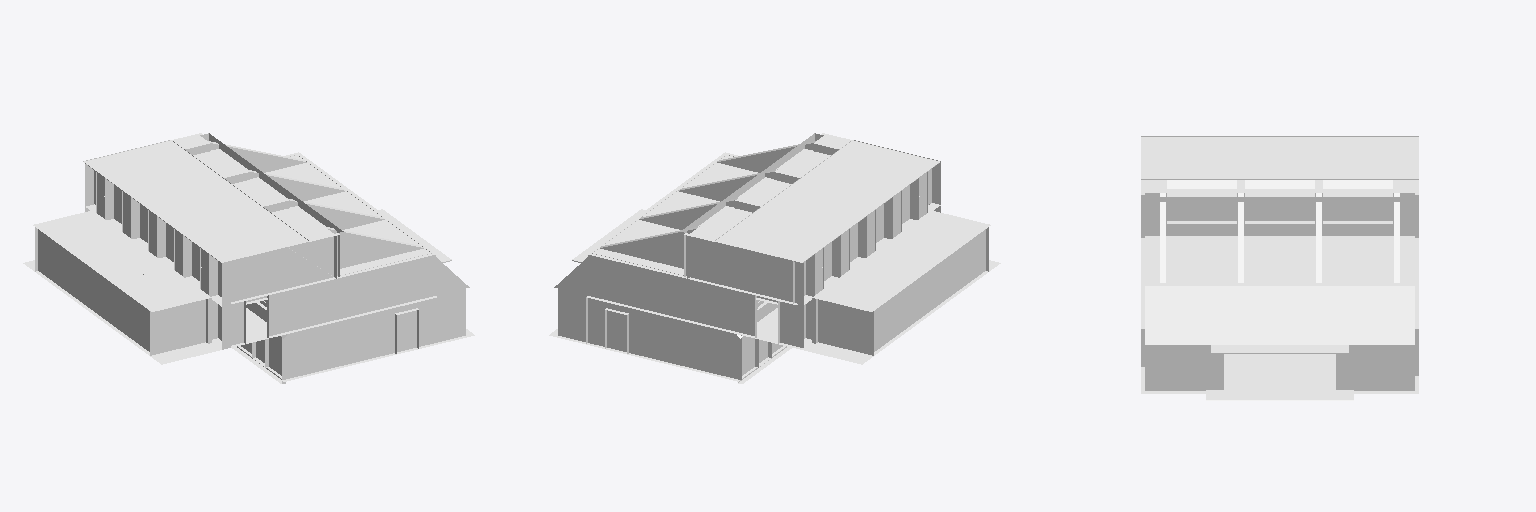
File: LC_room2_hall.obj
3 views of the same model, side by side, from view 1: azimuth 30°, elevation 25°; view 2: azimuth 150°, elevation 25°; view 3: azimuth 270°, elevation 25° (orthographic).
Parts seen in each view (by area): view 1: LC_room2_hall; view 2: LC_room2_hall; view 3: LC_room2_hall.
Boxes of the visible parts, x1=… form: LC_room2_hall: x1=23, y1=133, x2=474, y2=383; LC_room2_hall: x1=549, y1=133, x2=1000, y2=383; LC_room2_hall: x1=1141, y1=136, x2=1418, y2=400.
Size of the model in its own units: 27.88 by 11.24 by 20.48.